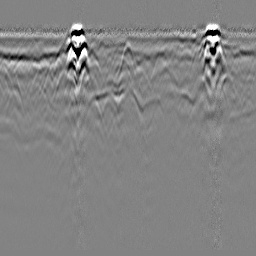cavity: (117, 39, 136, 78)
